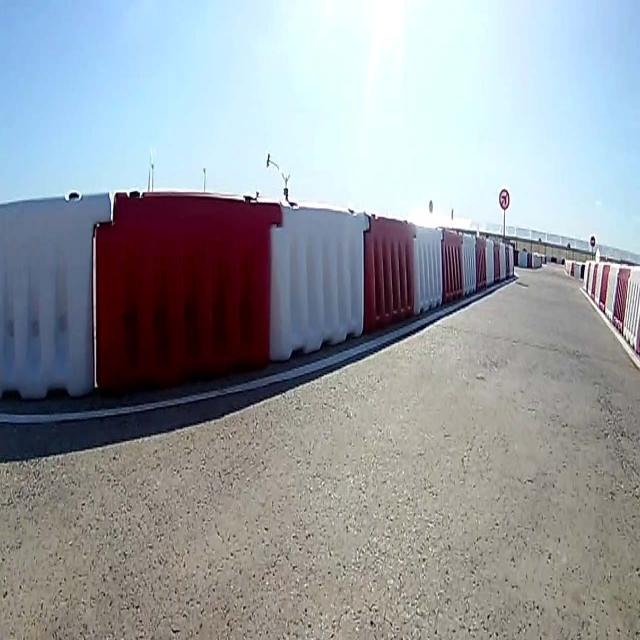soladonulmez: (496, 188, 509, 206)
